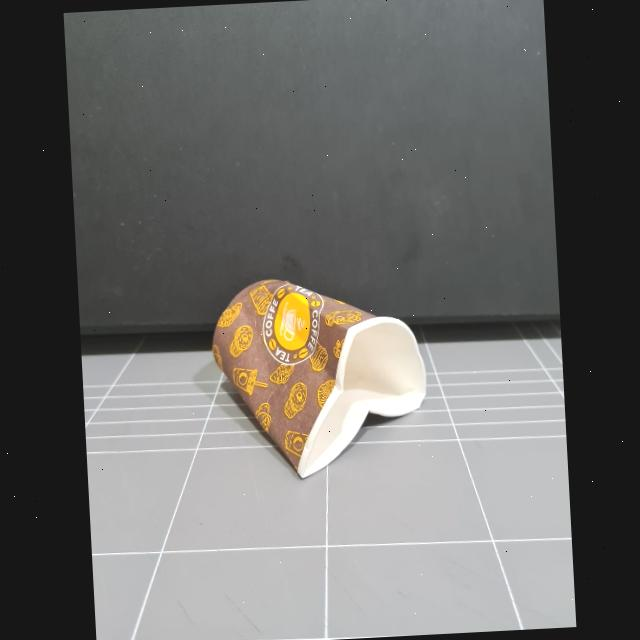trash: (196, 256, 442, 468)
